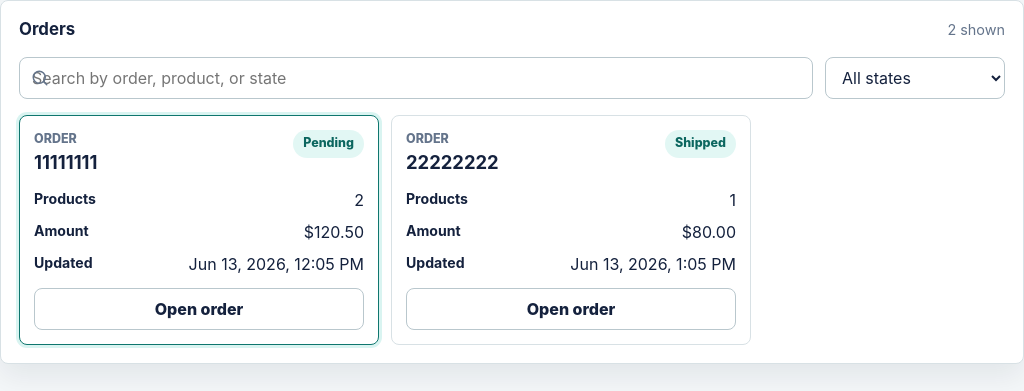
Test: OrderList › filters by order ID
The image size is (1024, 391).
In the field named "search orders": (416, 78) [19,57,813,99], type "22222222"
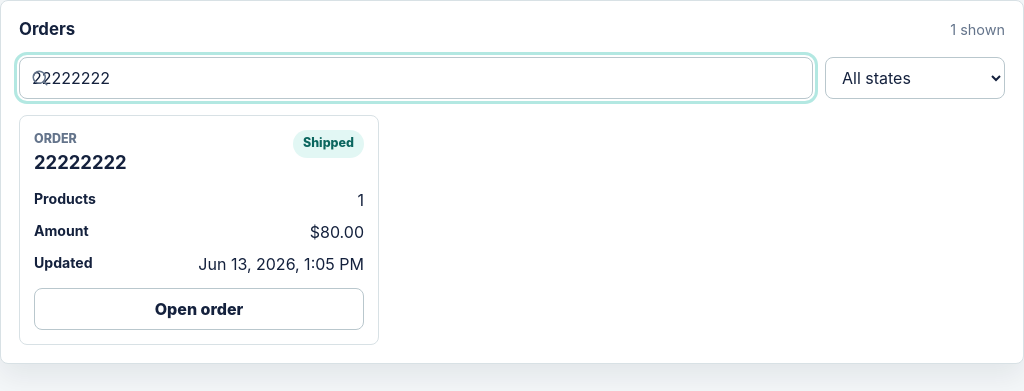
expect the heading "22222222" is shown: met, box [34,148,127,176]
expect the number of list items is 1: met, box [19,115,379,345]
expect the heading "11111111" is gone: met
